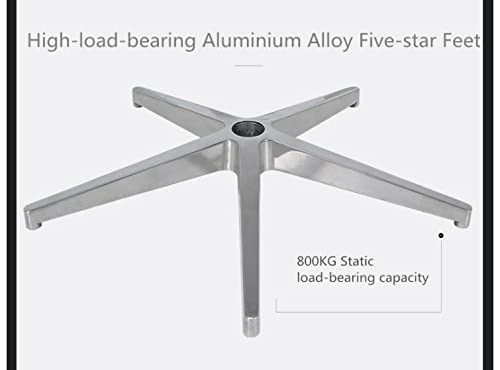Alloy: (308, 32, 352, 52)
Aluminium: (203, 32, 300, 47)
Feet|: (444, 33, 480, 47)
Five-star: (360, 33, 436, 47)
High-load-bearing: (28, 32, 195, 52)
Static: (341, 256, 373, 266)
capacity: (380, 273, 428, 285)
load-bearing: (298, 272, 374, 285)
